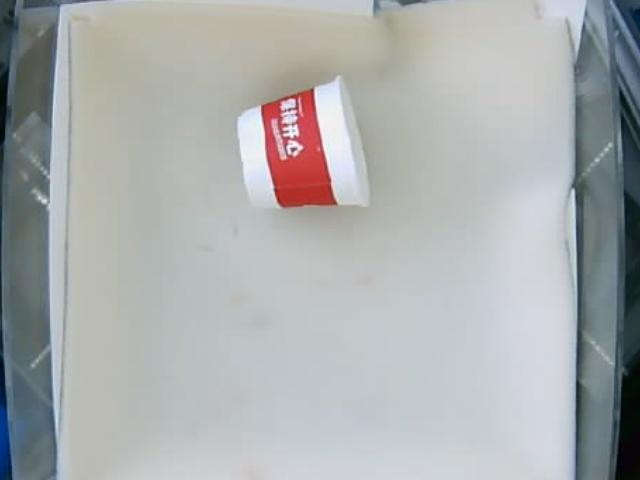Cup: (238, 74, 371, 208)
